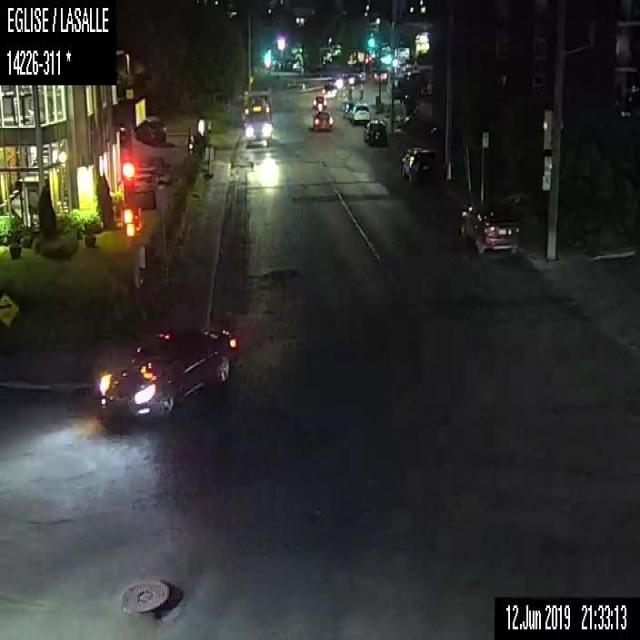bus: (240, 89, 272, 147)
vehicle: (96, 325, 239, 419), (457, 197, 524, 252), (398, 146, 442, 182), (134, 113, 167, 147), (364, 117, 390, 148), (348, 100, 370, 124), (311, 109, 333, 131), (310, 94, 328, 109), (322, 82, 338, 98)
